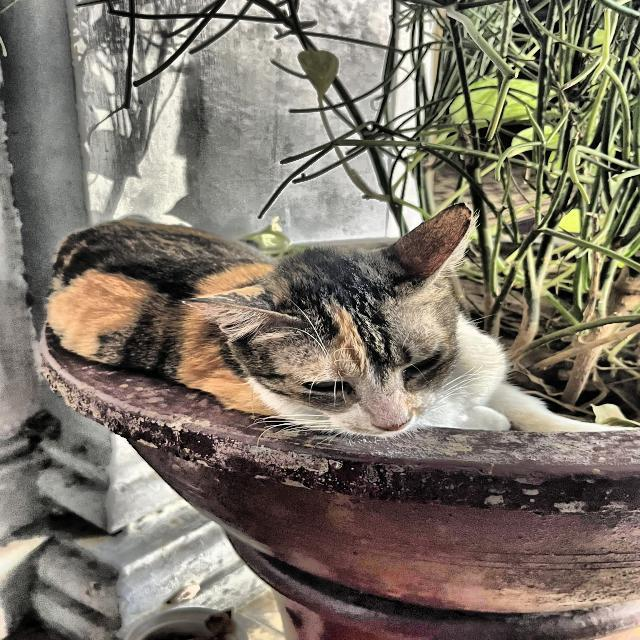Healthy skin: (200, 256, 408, 362)
